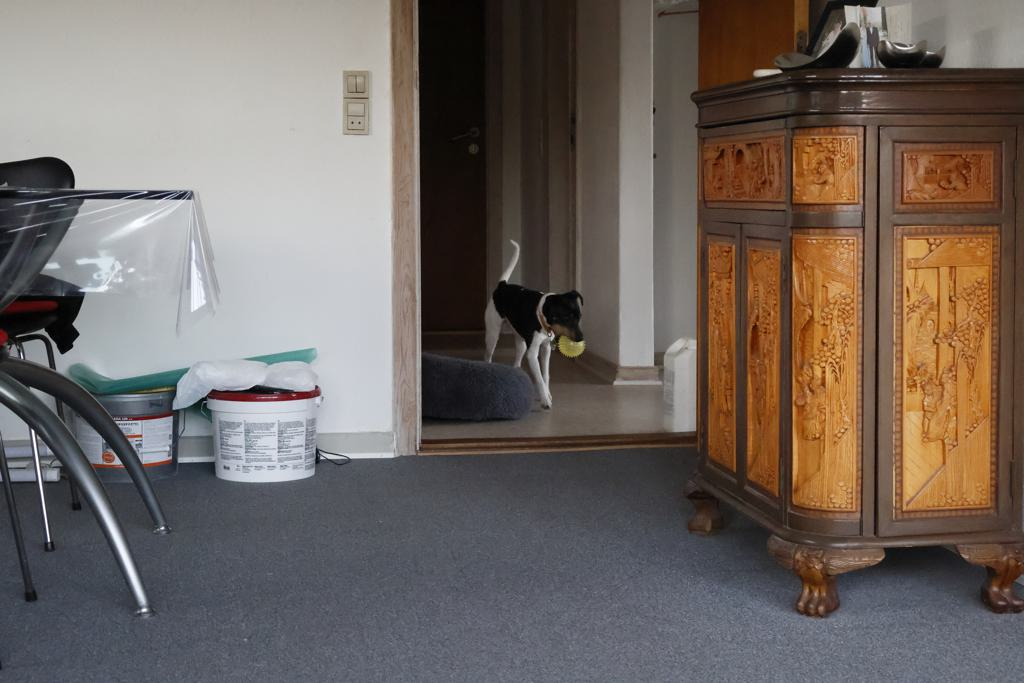Dog: (475, 235, 596, 413)
